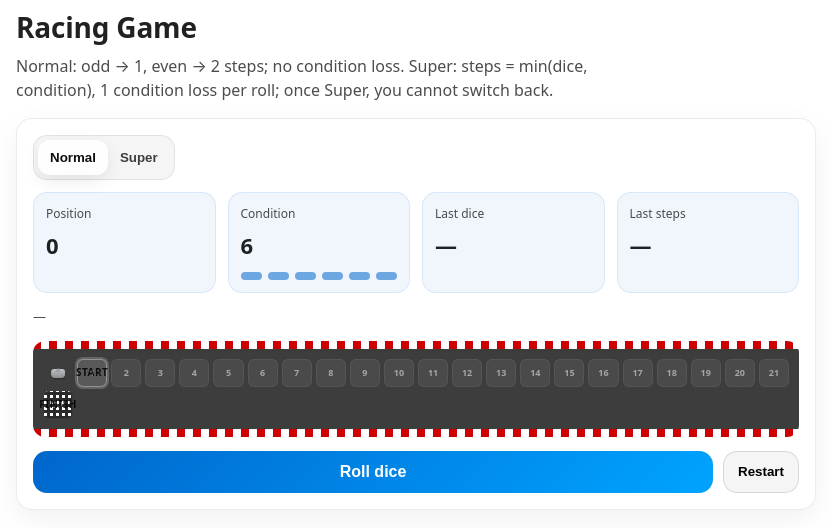
Scenario: RacingGame › rolls the dice and shows dice/steps/position
The width and height of the screenshot is (833, 528).
expect the text with test id "position" reads "0": met, box [46, 230, 58, 260]
Click the button with test id "roll" at (373, 472), box [33, 451, 713, 493]
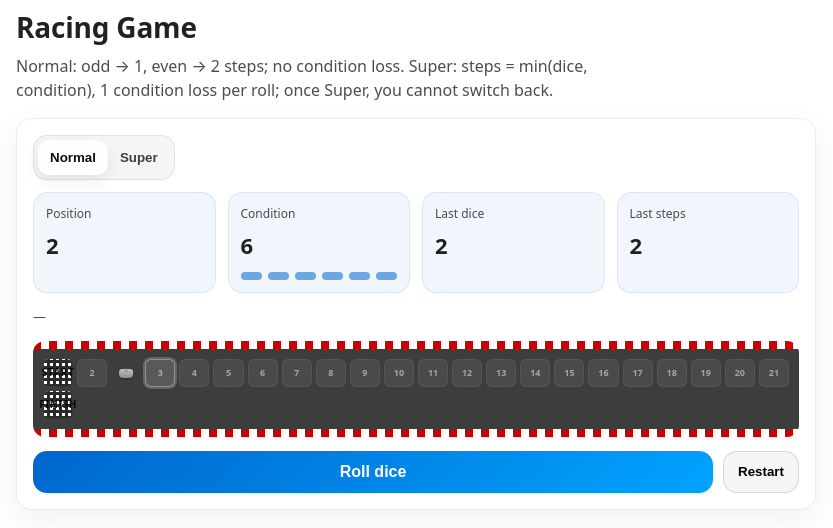
expect the text with test id "dice" reads "2": met, box [435, 230, 447, 260]
expect the text with test id "steps" reads "2": met, box [630, 230, 642, 260]
expect the text with test id "position" reads "2": met, box [46, 230, 58, 260]
